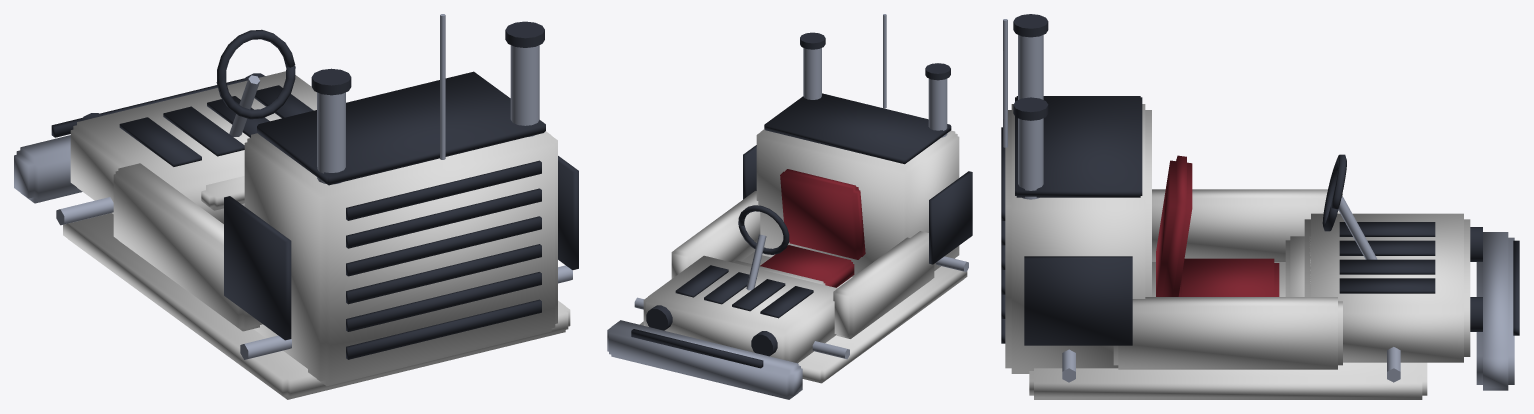
File: part_mainframe.glb
3 renders of one model, left to right at view 1: azimuth 30°, elevation 25°; view 2: azimuth 150°, elevation 25°; view 3: azimuth 270°, elevation 25°, orthographic. The views are drawn at different scales.
Parts seen in each view (by area): view 1: part_mainframe; view 2: part_mainframe; view 3: part_mainframe.
Part boxes in pixels (bbox=[...]): part_mainframe: bbox=[14, 14, 578, 399]; part_mainframe: bbox=[607, 14, 972, 399]; part_mainframe: bbox=[1001, 14, 1519, 399].
Size of the model in its own units: 1.04 by 1.11 by 1.63.
